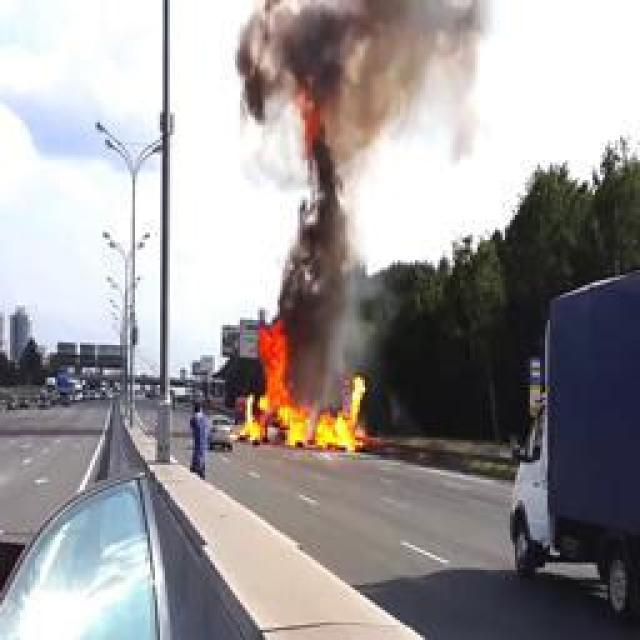Fire: (236, 318, 369, 452)
